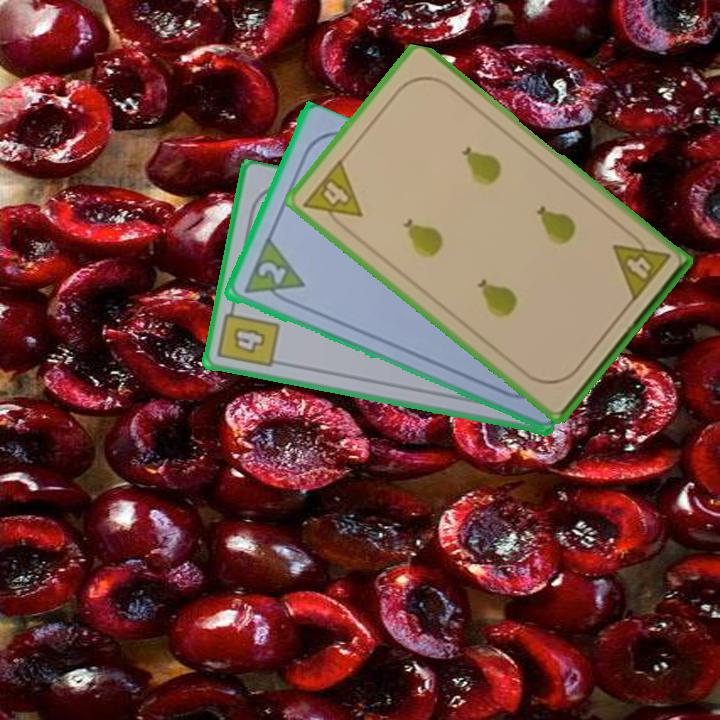2p: (239, 236, 307, 309)
4b: (214, 300, 283, 371)
4p: (299, 155, 365, 236), (609, 226, 673, 304)
